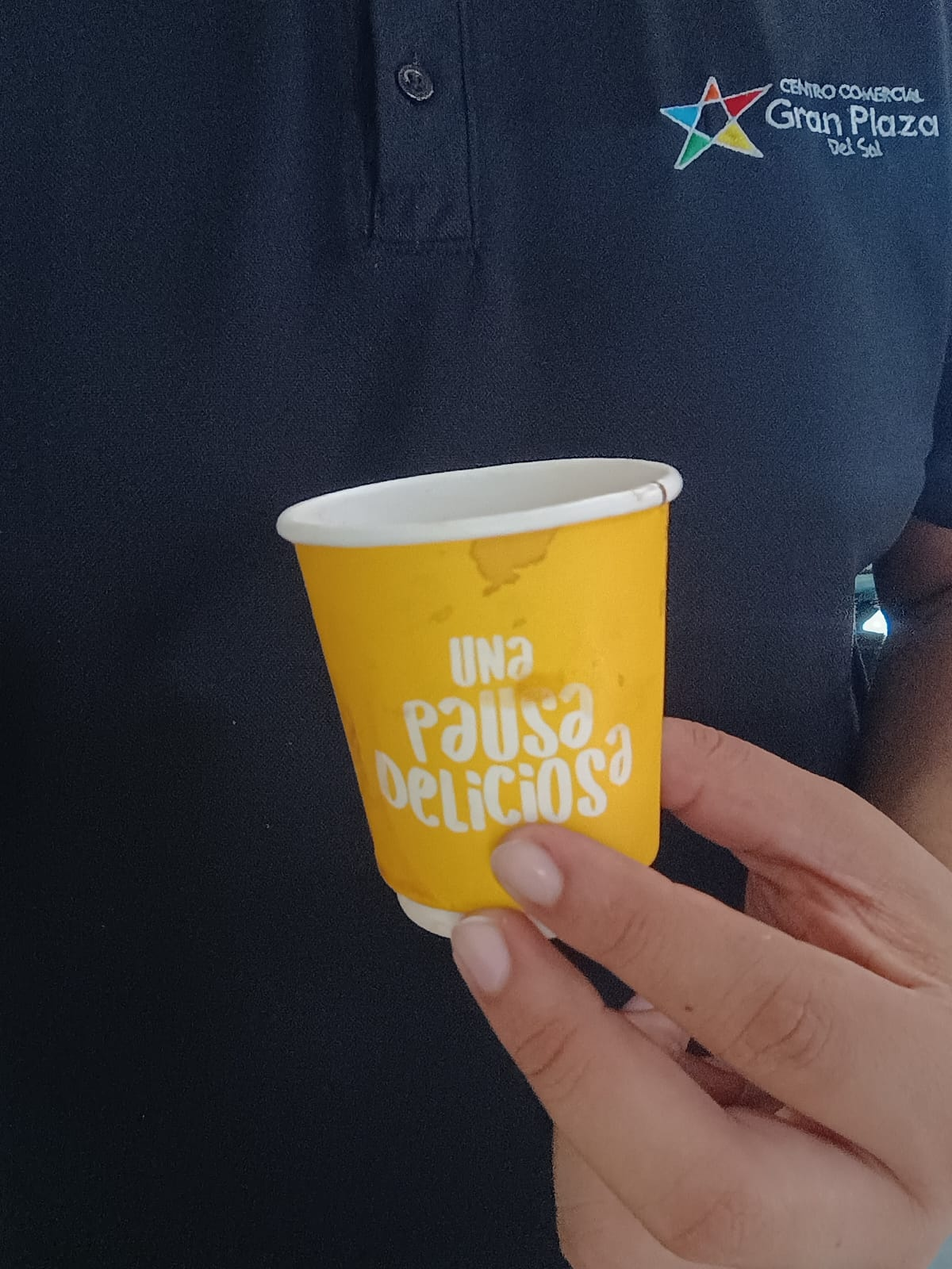Carton: (281, 457, 683, 943)
